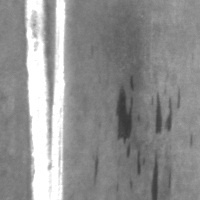inclusion: (114, 83, 138, 150), (154, 90, 182, 136), (141, 150, 162, 199), (91, 149, 104, 183)
scratches: (21, 0, 68, 199)
